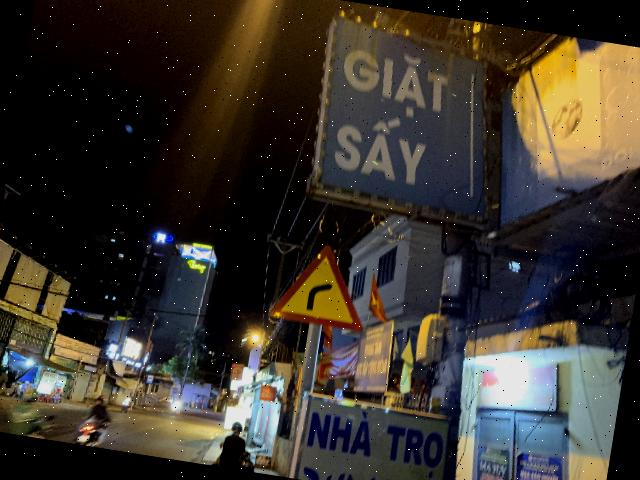cho-ngoat-nguy-hiem-ben-phai: (268, 235, 374, 333)
